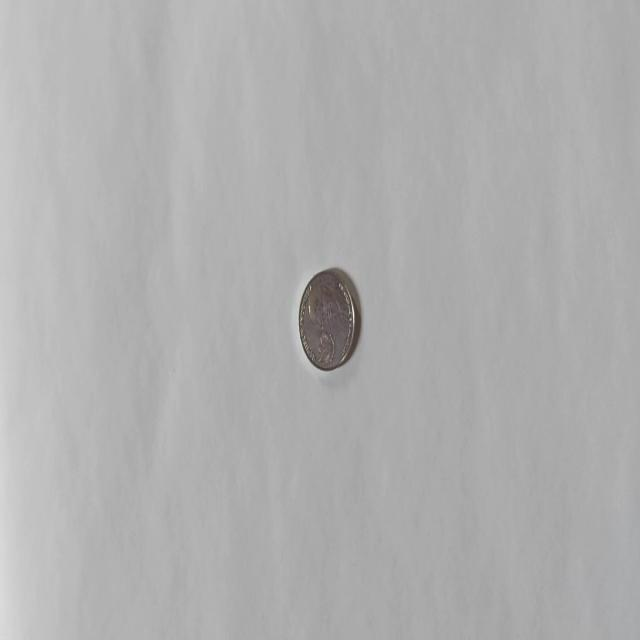lima ratus rupiah: (296, 266, 356, 372)
